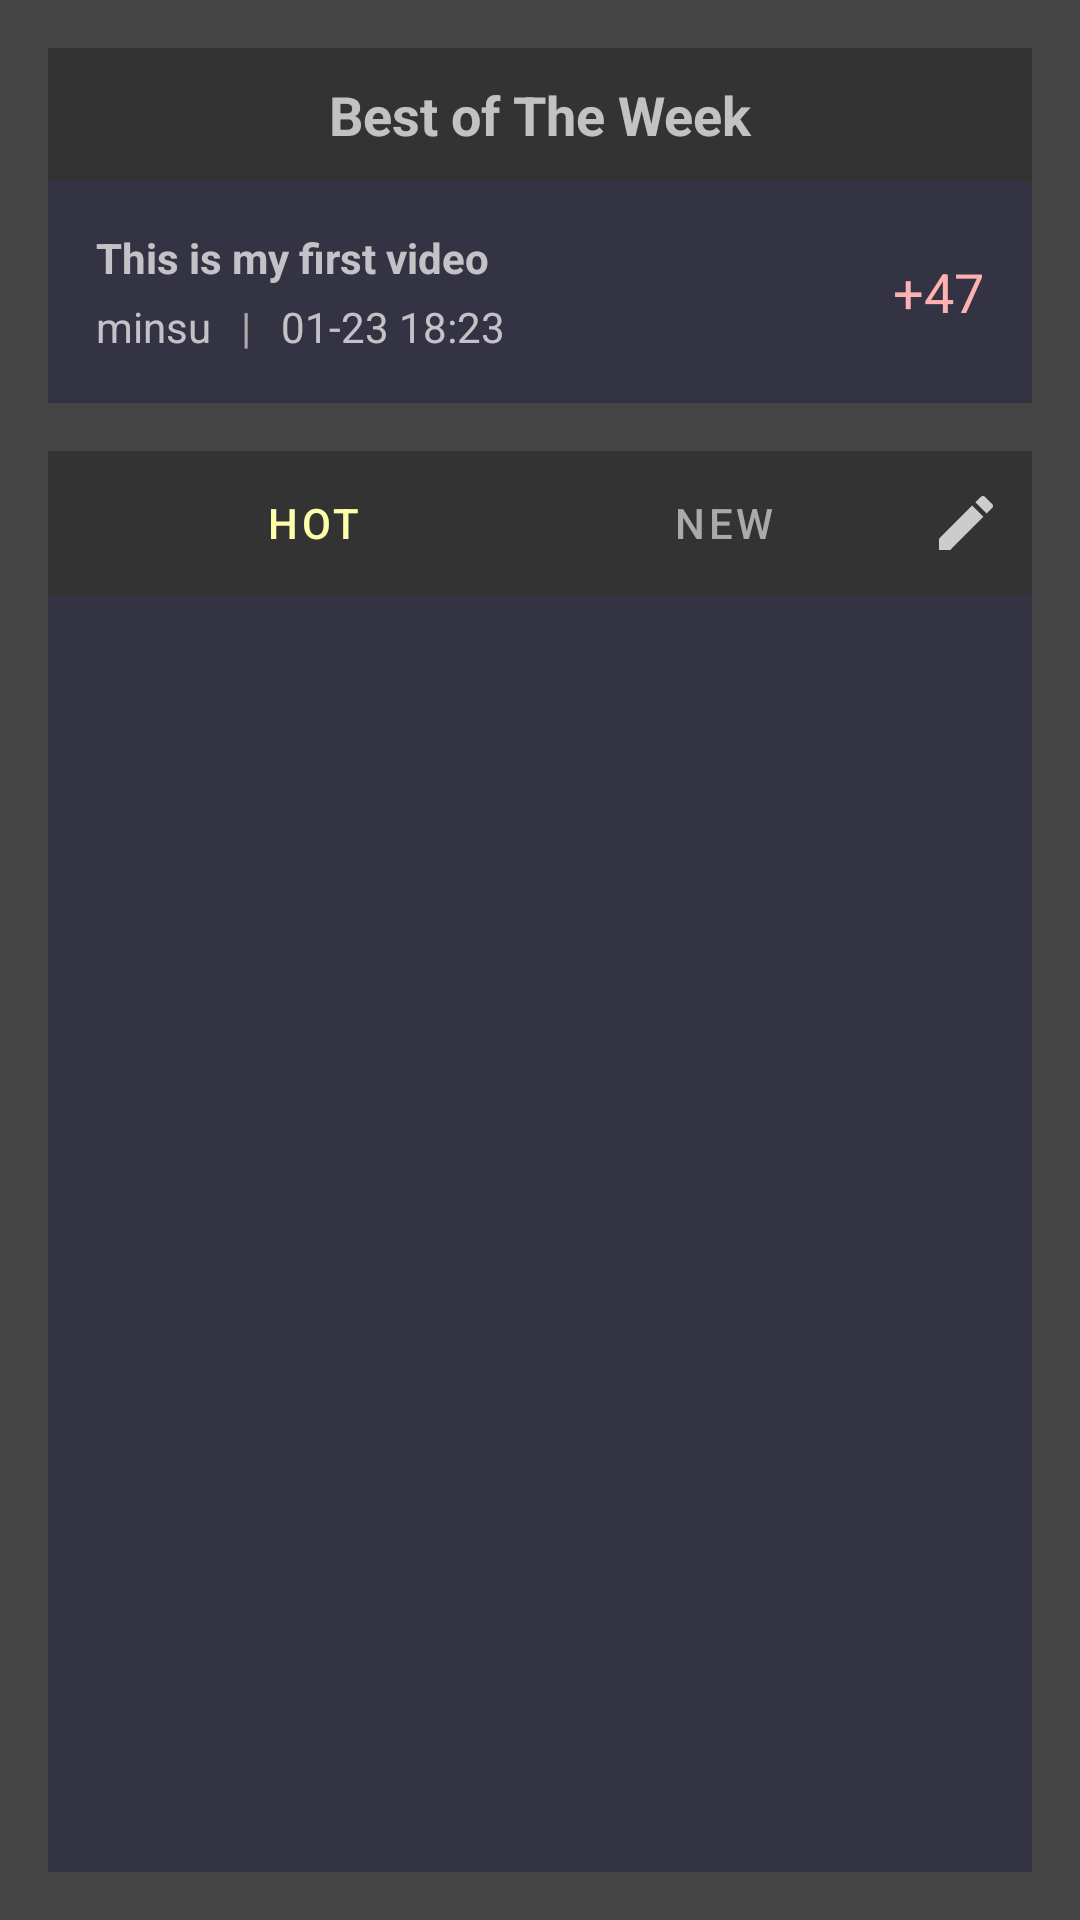

Where to tap for icons on this 1080 × 1920 app screen, as (x=x, y=y):
Write new post: (x=966, y=523)
